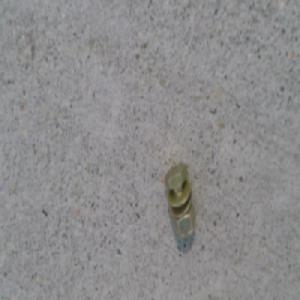BoltNutSet: (166, 160, 197, 237)
